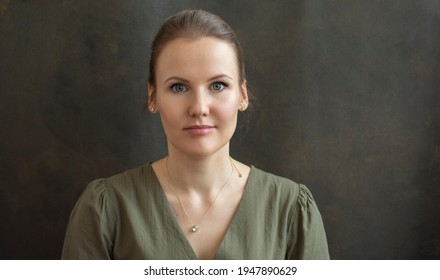NoMask: (161, 68, 237, 157)
